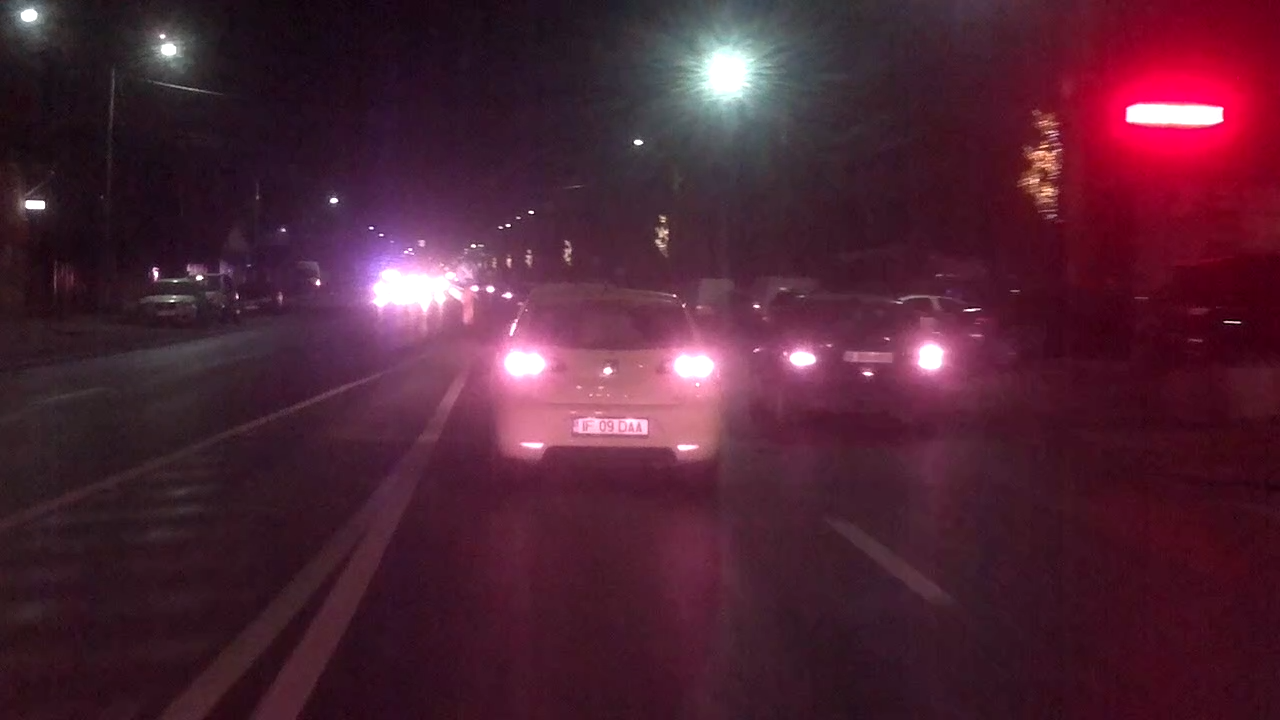license-plate: (568, 413, 652, 438)
